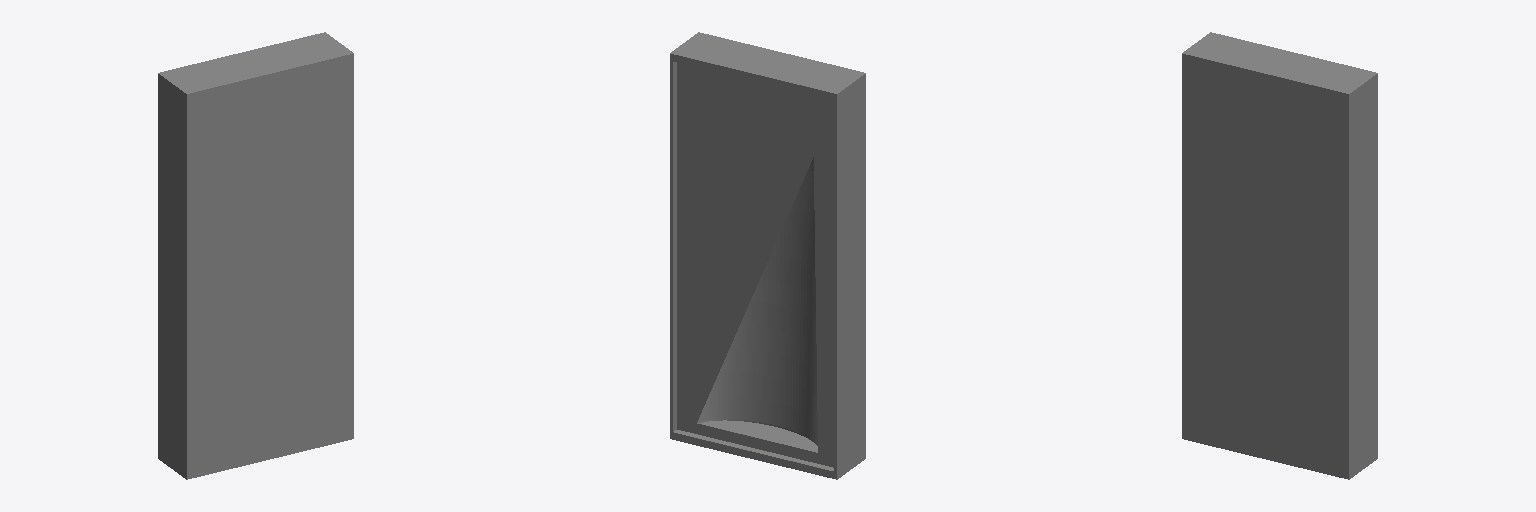
3 views of the same model, side by side, from view 1: azimuth 30°, elevation 25°; view 2: azimuth 150°, elevation 25°; view 3: azimuth 330°, elevation 25° (orthographic).
Visible parts, largest first — view 1: Cube.002; view 2: Cube.002; view 3: Cube.002.
Part boxes in pixels (x1,y1,x2,y2): Cube.002: (158, 32, 353, 479); Cube.002: (670, 32, 865, 479); Cube.002: (1182, 32, 1377, 479).
Size of the model in its own units: 2 by 4.4 by 0.6.
Materials: 1 (1 with a texture image).